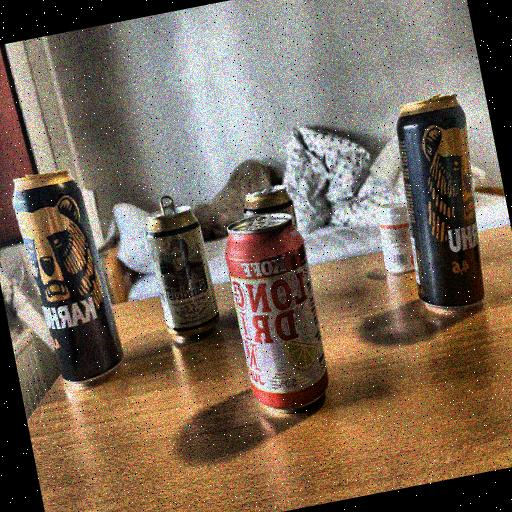karhu: (376, 84, 509, 322), (6, 151, 130, 392)
koff: (210, 208, 348, 426)
sandels: (136, 192, 225, 342)
